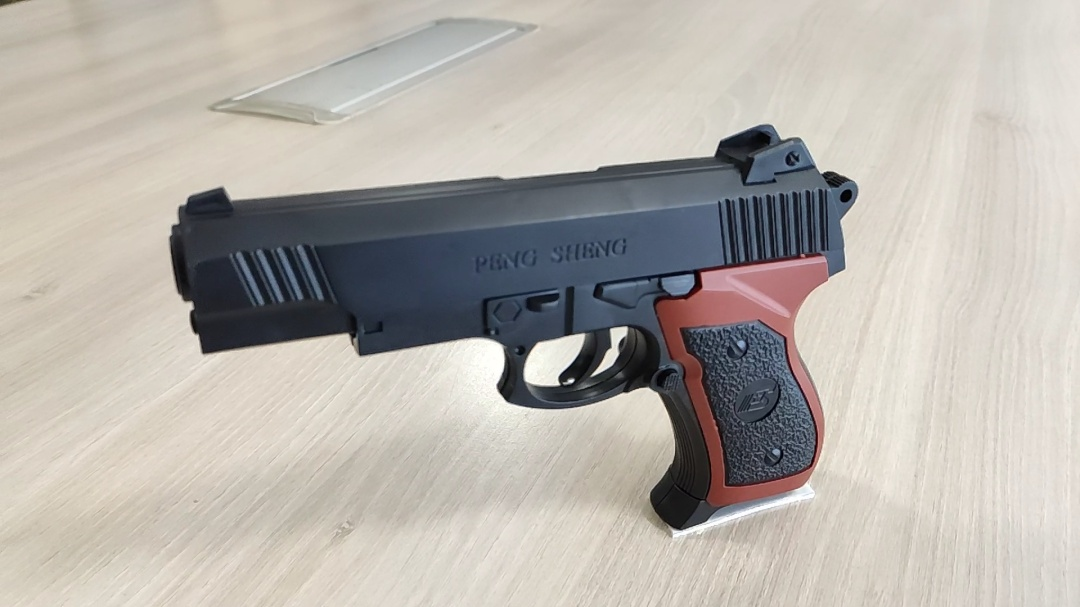gun: (316, 266, 378, 307)
